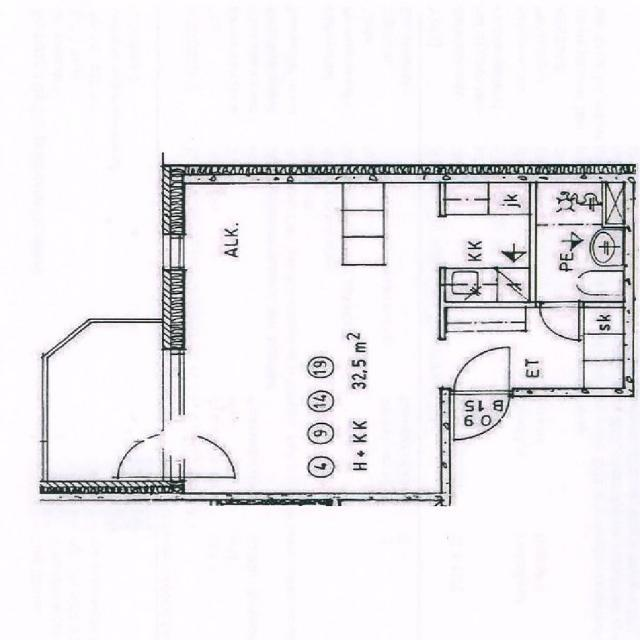door: (162, 434, 237, 476), (110, 434, 184, 476), (454, 387, 509, 442), (454, 342, 509, 397), (539, 302, 578, 339)
